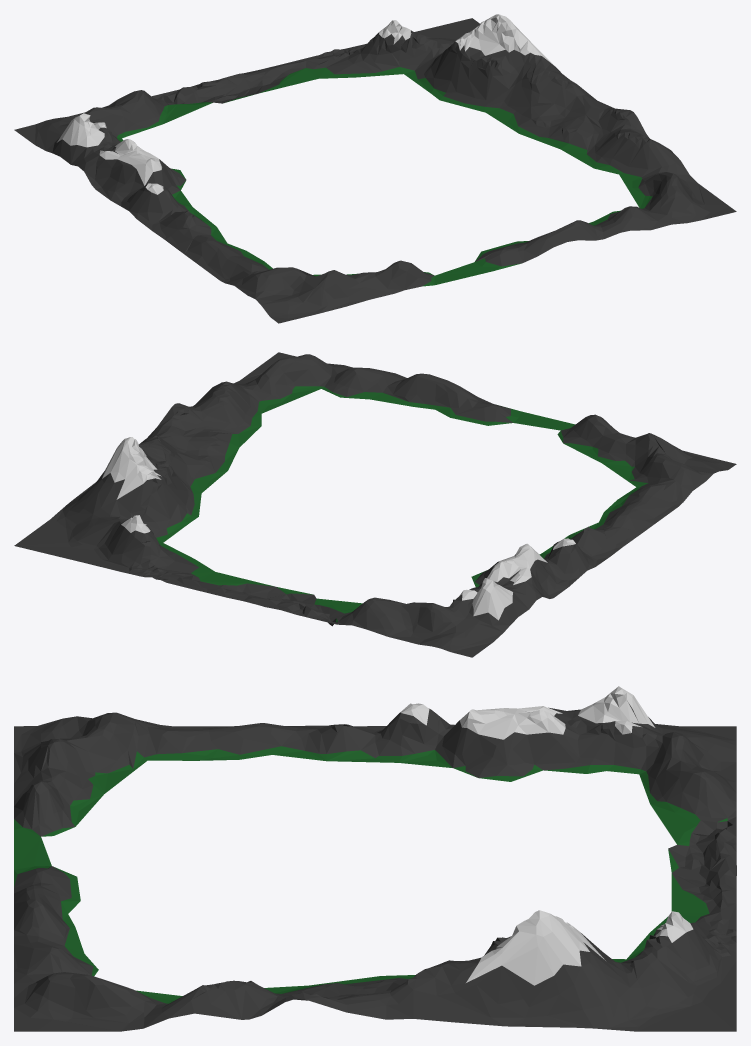
Rendered from LowPolyTerrain.FBX.
3 views of the same model, one above another, from view 1: azimuth 30°, elevation 25°; view 2: azimuth 150°, elevation 25°; view 3: azimuth 270°, elevation 25° (orthographic). The views are drawn at different scales.
Visible parts, largest first — view 1: Plane006; view 2: Plane006; view 3: Plane006.
Boxes of the visible parts, x1,y1,x2,y2 form: Plane006: [14, 14, 736, 323]; Plane006: [14, 352, 736, 657]; Plane006: [14, 686, 736, 1031].
Size of the model in its own units: 23640 by 3599 by 23629.
